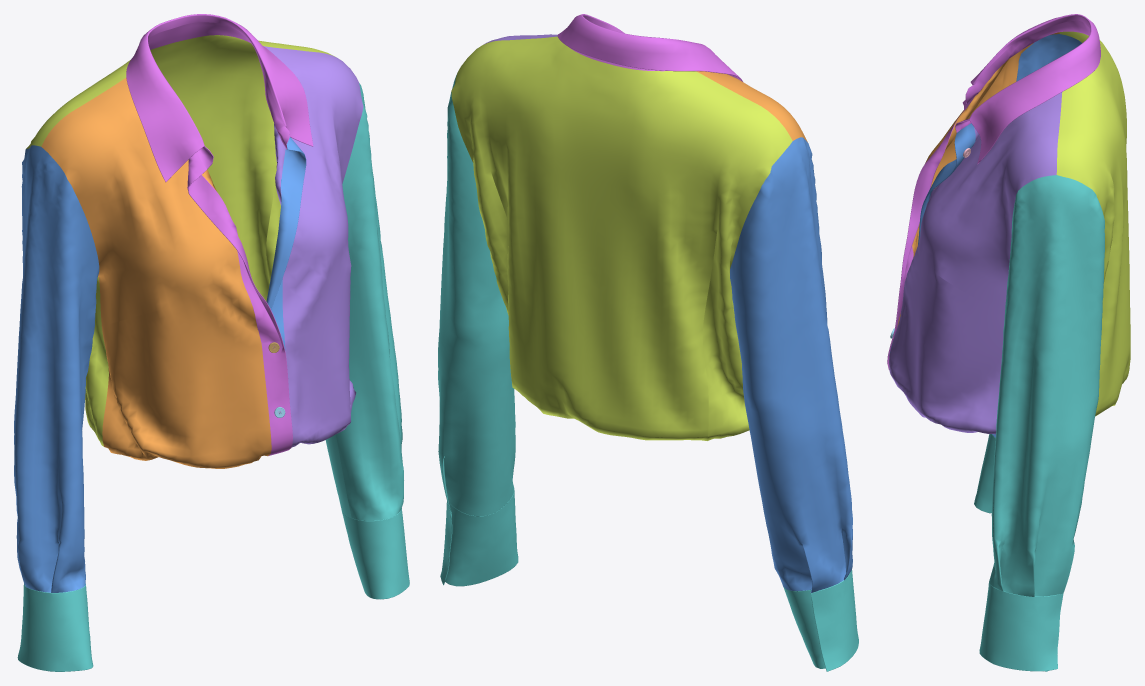
File: candidate-colored.glb
3 views of the same model, side by side, from view 1: azimuth 30°, elevation 25°; view 2: azimuth 150°, elevation 25°; view 3: azimuth 270°, elevation 25° (orthographic). The views are drawn at different scales.
Parts seen in each view (by area): view 1: Object_8, Object_4, Object_7, Object_9, Object_10, Object_6; view 2: Object_10, Object_4, Object_7, Object_6, Object_8; view 3: Object_7, Object_9, Object_10, Object_6, Object_4, Object_8.
Part boxes in pixels (left/top/right/bottom): Object_8: left=41, top=78, right=271, bottom=468; Object_4: left=14, top=136, right=306, bottom=592; Object_7: left=17, top=83, right=409, bottom=671; Object_9: left=264, top=46, right=363, bottom=447; Object_10: left=26, top=35, right=335, bottom=446; Object_6: left=126, top=14, right=313, bottom=455; Object_10: left=451, top=36, right=792, bottom=440; Object_4: left=730, top=137, right=852, bottom=592; Object_7: left=438, top=73, right=858, bottom=671; Object_6: left=557, top=14, right=742, bottom=81; Object_8: left=696, top=71, right=807, bottom=142; Object_7: left=974, top=175, right=1104, bottom=671; Object_9: left=889, top=92, right=1062, bottom=434; Object_10: left=1056, top=31, right=1130, bottom=416; Object_6: left=887, top=14, right=1100, bottom=370; Object_4: left=889, top=34, right=1081, bottom=437; Object_8: left=897, top=32, right=1059, bottom=325.
Bounding box in the file's own units: 0.4873 × 0.7012 × 0.277.
